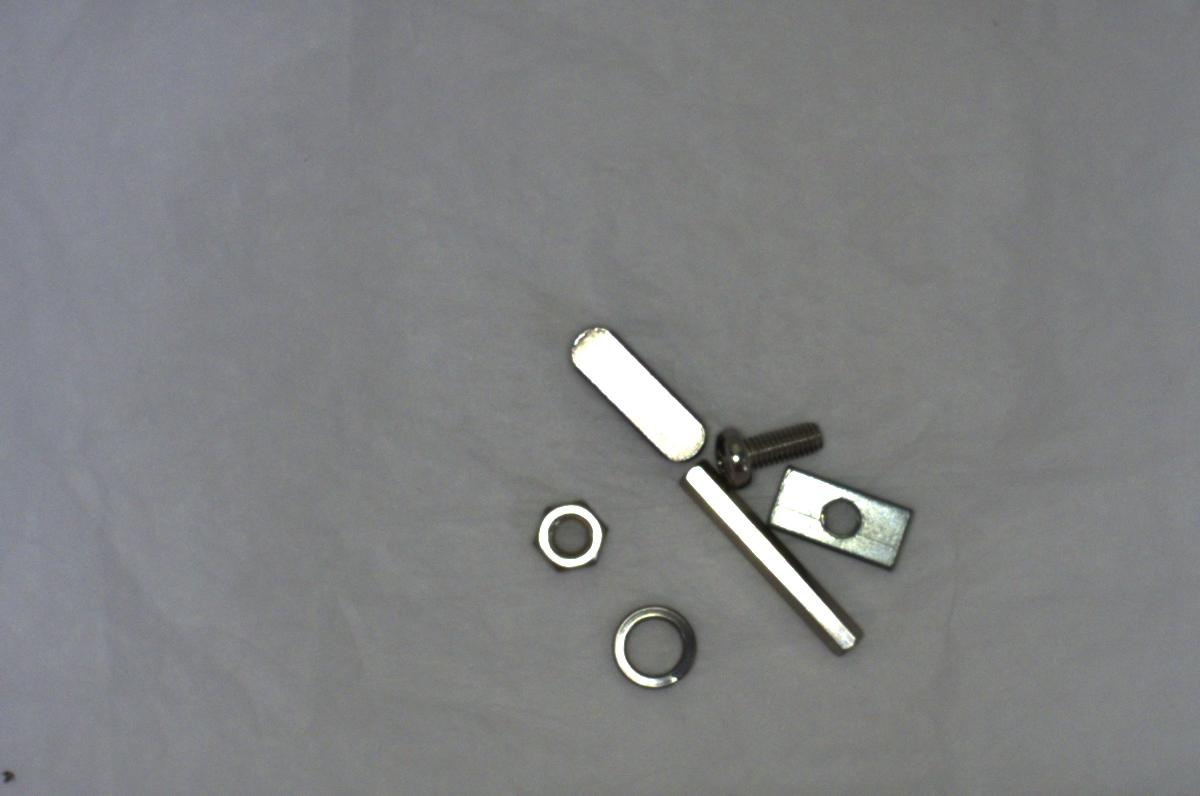Double hexagonal column: (676, 462, 867, 659)
Hexagon nut: (523, 494, 611, 578)
Keybar: (546, 317, 711, 464)
Rectangular nut: (771, 464, 910, 572)
Round head screw: (697, 408, 832, 487)
Spring washer: (610, 592, 708, 694)
